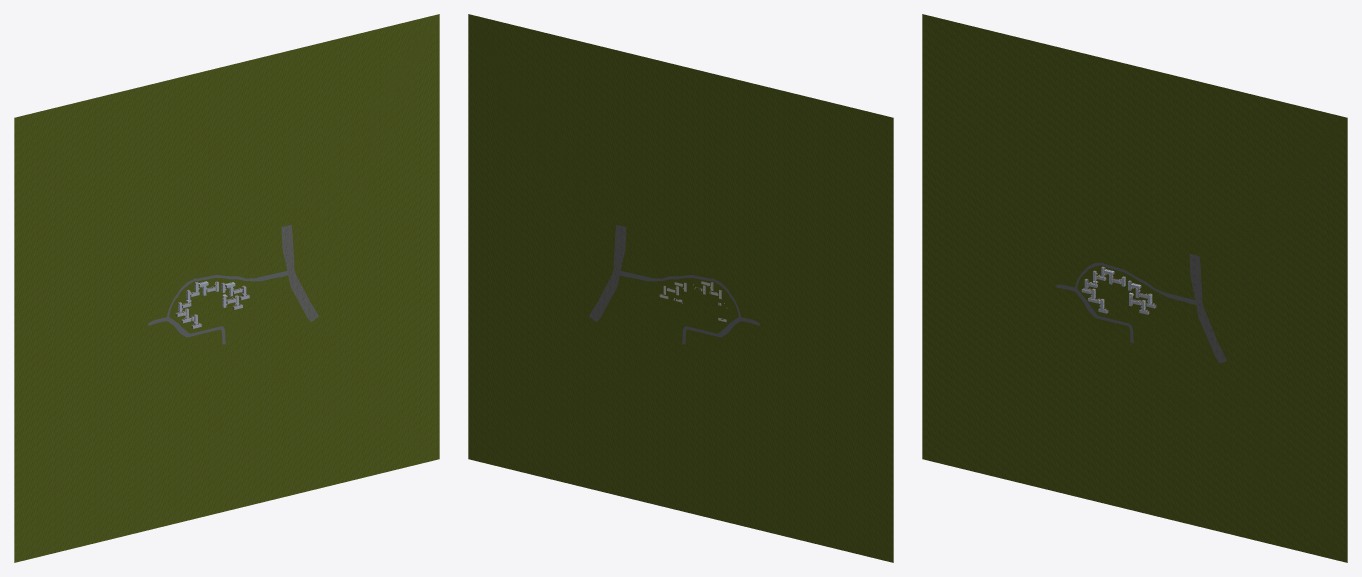
File: yo-kyla.obj
3 renders of one model, left to right at view 1: azimuth 30°, elevation 25°; view 2: azimuth 150°, elevation 25°; view 3: azimuth 330°, elevation 25°, orthographic.
Bounding box in the file's own units: 2000 × 2000 × 16.
